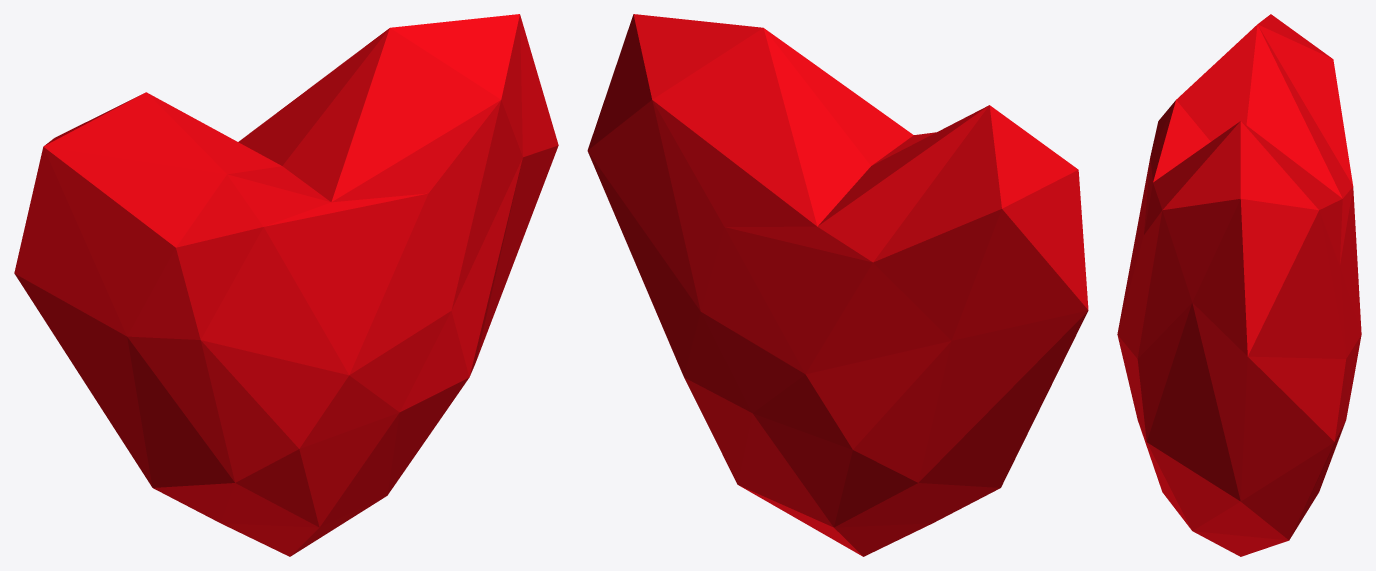
File: Health_Pickup.fbx
3 views of the same model, side by side, from view 1: azimuth 30°, elevation 25°; view 2: azimuth 150°, elevation 25°; view 3: azimuth 270°, elevation 25° (orthographic). The views are drawn at different scales.
Parts seen in each view (by area): view 1: Icosphere; view 2: Icosphere; view 3: Icosphere.
Part boxes in pixels (x1,y1,x2,y2): Icosphere: (14, 14, 558, 556); Icosphere: (587, 14, 1088, 556); Icosphere: (1117, 14, 1361, 556).
Bounding box in the file's own units: 368 × 340 × 156.
